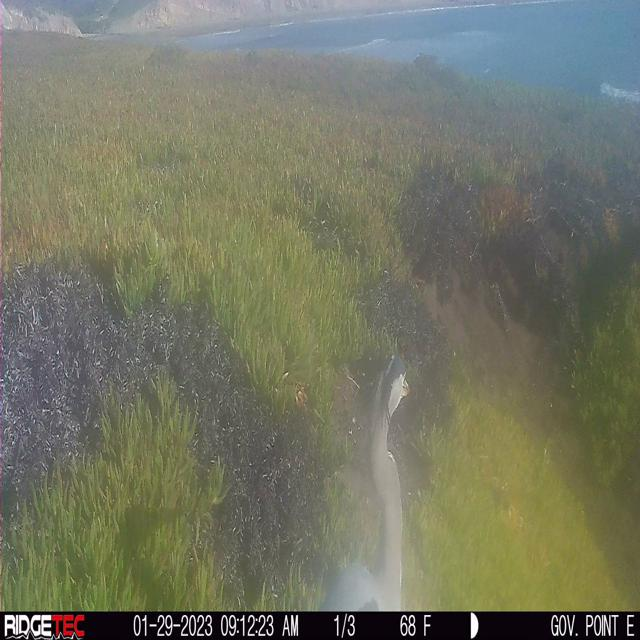bird: (302, 318, 426, 608)
